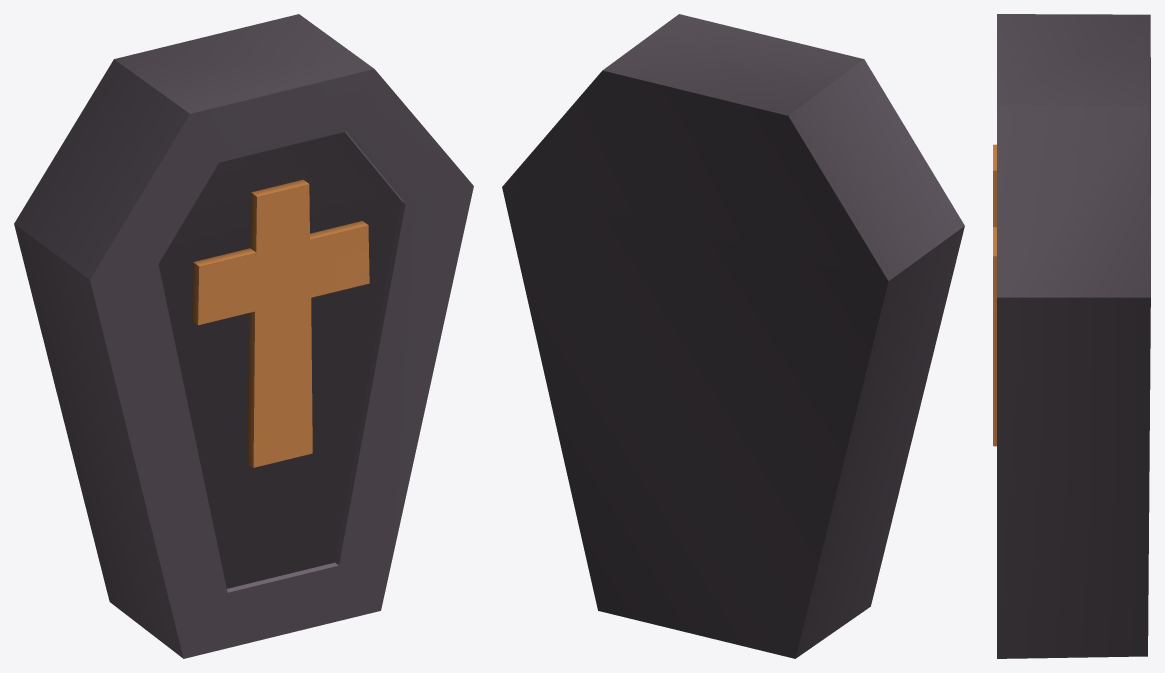
The model's file is Caixao.fbx.
The picture shows the model from 3 angles, left to right: view 1: azimuth 30°, elevation 25°; view 2: azimuth 150°, elevation 25°; view 3: azimuth 270°, elevation 25°; orthographic projection.
Parts seen in each view (by area): view 1: Caixao; view 2: Caixao; view 3: Caixao.
Boxes of the visible parts, x1=… form: Caixao: x1=14, y1=14, x2=473, y2=658; Caixao: x1=502, y1=14, x2=964, y2=658; Caixao: x1=993, y1=14, x2=1150, y2=658.
Size of the model in its own units: 315 by 425 by 110.
